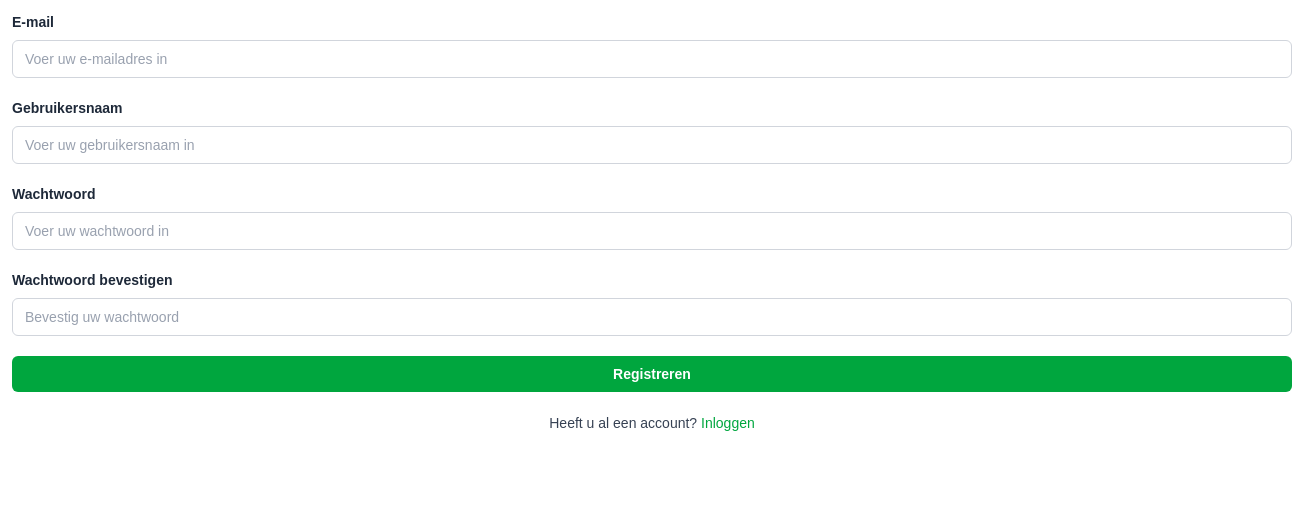
Test: RegisterForm › shows client-side validation errors when form is submitted empty
What coordinates should you click on to do the following:
click the button with test id "register-button"
I would click on:
 (652, 374)
Its box is [12,356,1292,392].
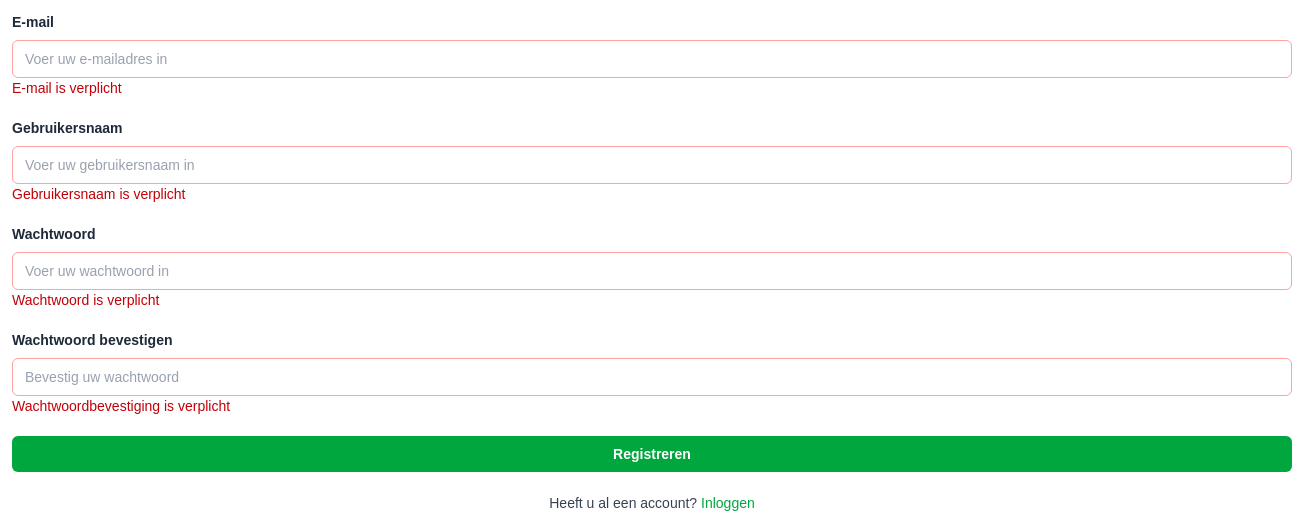
Now the text "E-mail is verplicht" is shown, box [12,80,122,96]
Now the text "Gebruikersnaam is verplicht" is shown, box [12,186,186,202]
Now the text "Wachtwoord is verplicht" is shown, box [12,292,159,308]
